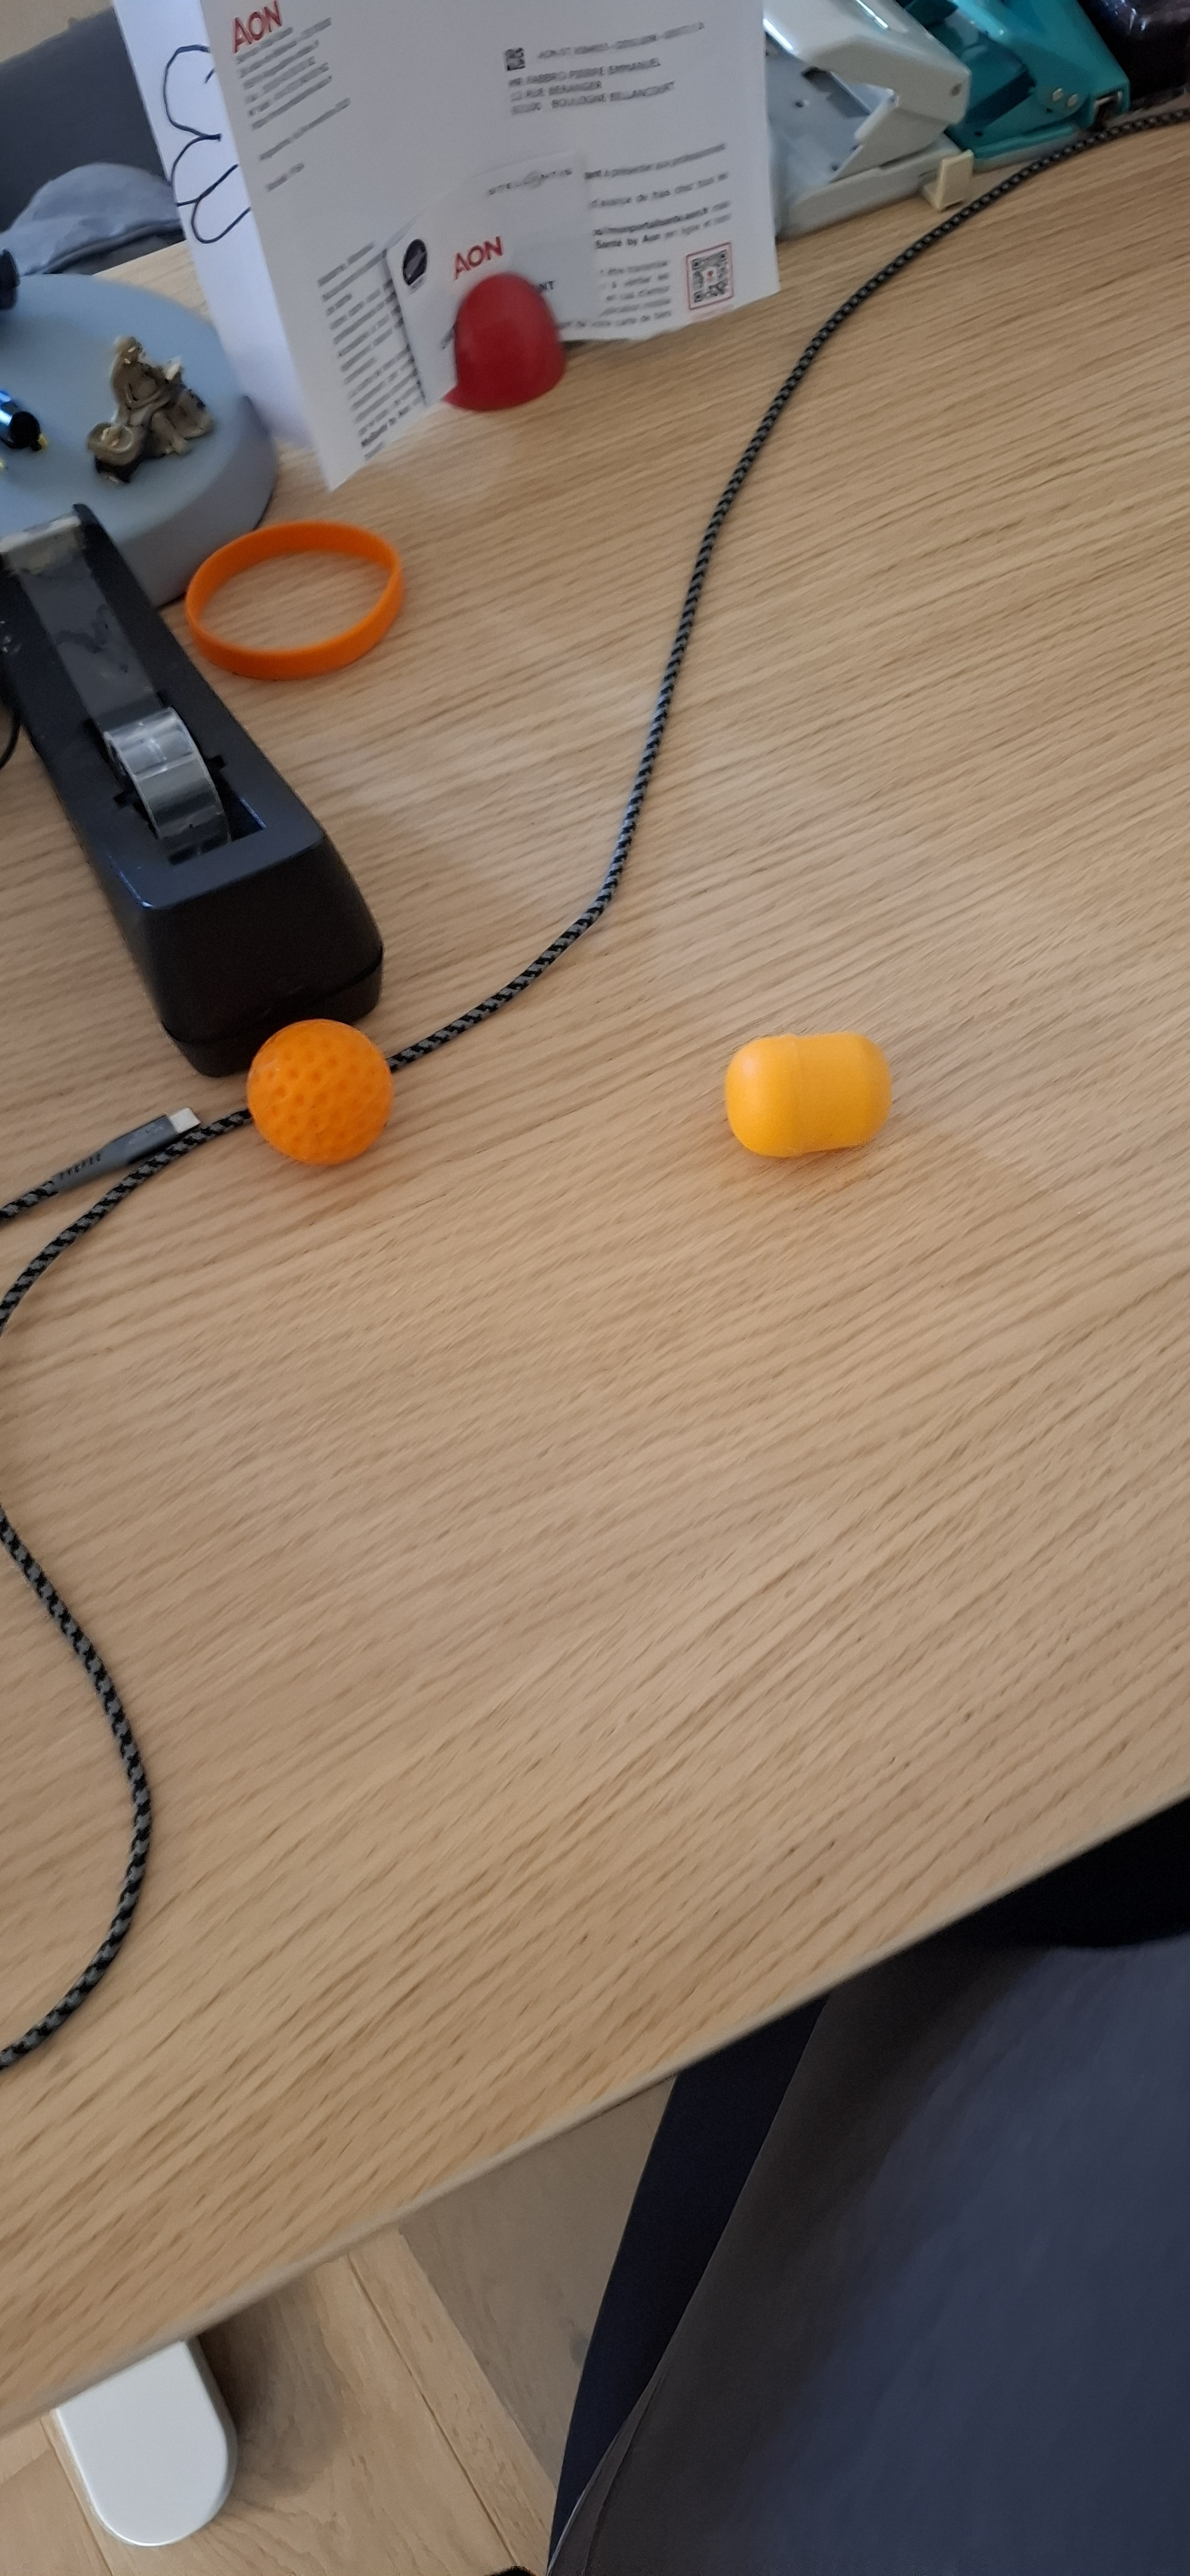ball: (468, 1725, 539, 2045)
